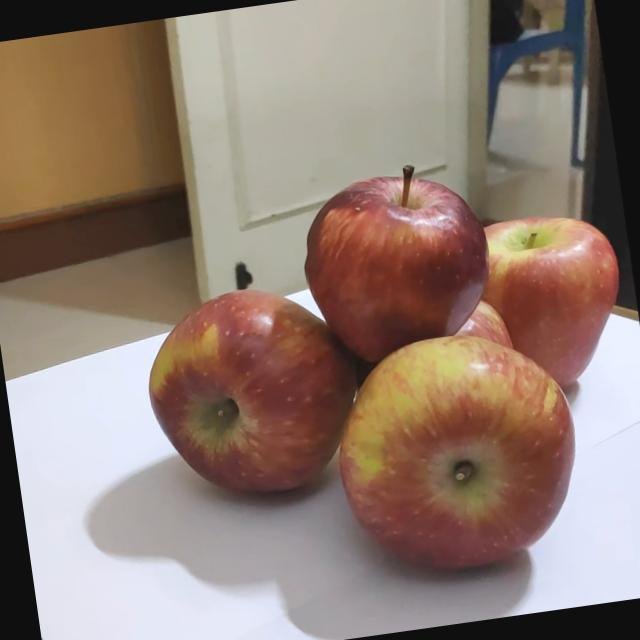apple: (324, 306, 601, 582), (128, 265, 378, 515), (286, 147, 512, 362), (462, 196, 626, 390)
